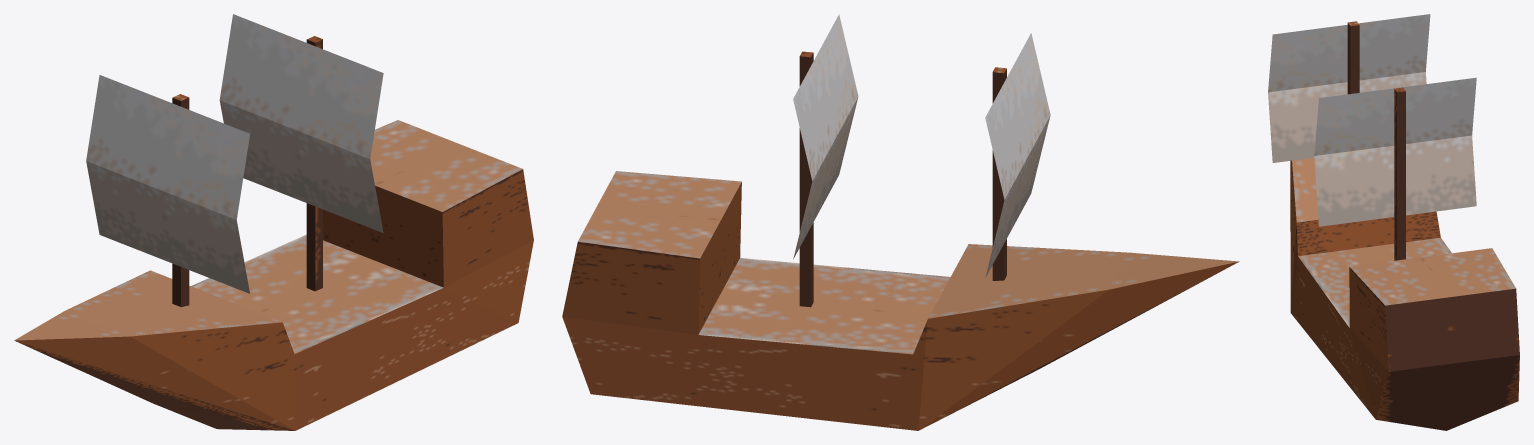
File: pirateship.fbx
3 renders of one model, left to right at view 1: azimuth 30°, elevation 25°; view 2: azimuth 150°, elevation 25°; view 3: azimuth 270°, elevation 25°, orthographic. The views are drawn at different scales.
Visible parts, largest first — view 1: Cube.001; view 2: Cube.001; view 3: Cube.001.
Boxes of the visible parts, <box> form: Cube.001: <box>14,14,533,430</box>; Cube.001: <box>562,14,1239,430</box>; Cube.001: <box>1268,14,1519,430</box>.
Size of the model in its own units: 523 by 301 by 246.
1 material, 1 textured.
